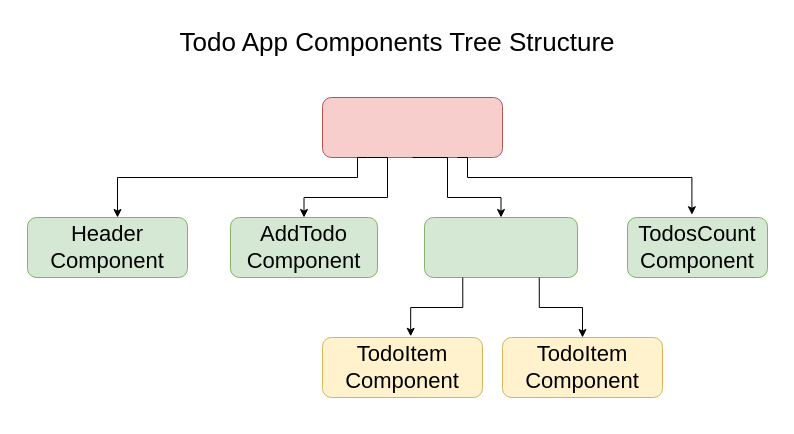
Image size: 794x434. Some labels were removed from this diagram. Here are the shapes that lost their labels. From the top down, the centre of each, then its label:
the point at 412,127: AppComponent
the point at 501,247: TodoList Component
